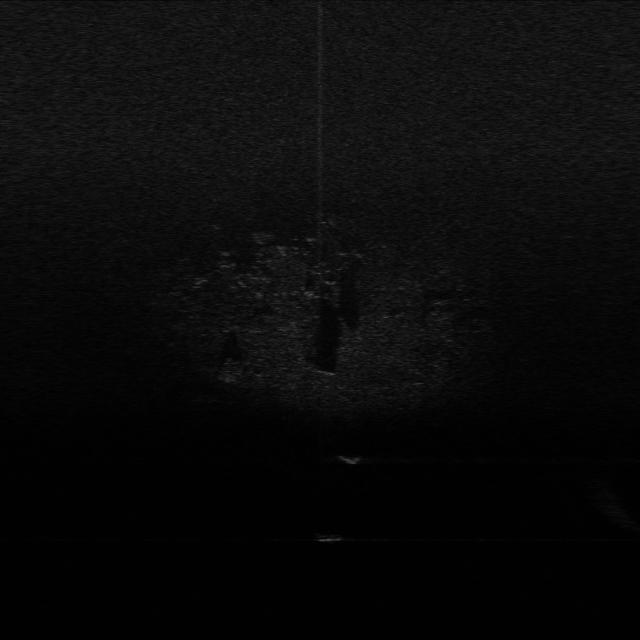cube: (307, 523, 352, 548)
square cage: (336, 446, 366, 466)
